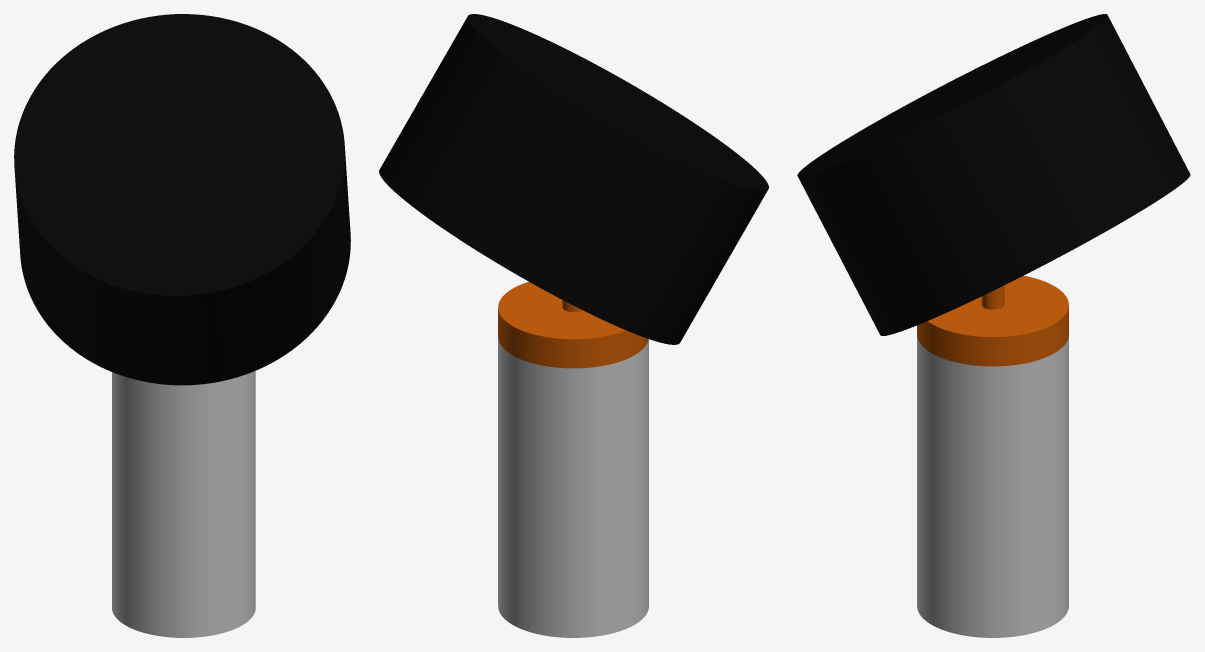
File: lamp15.obj
3 renders of one model, left to right at view 1: azimuth 30°, elevation 25°; view 2: azimuth 150°, elevation 25°; view 3: azimuth 270°, elevation 25°, orthographic. The views are drawn at different scales.
Visible parts, largest first — view 1: Cylinder.002, Cylinder; view 2: Cylinder.002, Cylinder, Cylinder.001; view 3: Cylinder.002, Cylinder, Cylinder.001.
Boxes of the visible parts, left/top/right/bottom form: Cylinder.002: left=14, top=14, right=350, bottom=385; Cylinder: left=112, top=371, right=255, bottom=637; Cylinder.002: left=379, top=14, right=768, bottom=344; Cylinder: left=498, top=337, right=648, bottom=637; Cylinder.001: left=498, top=282, right=648, bottom=368; Cylinder.002: left=797, top=14, right=1190, bottom=335; Cylinder: left=917, top=336, right=1068, bottom=637; Cylinder.001: left=917, top=275, right=1068, bottom=366.
Size of what is drawn, in the model's own units: 5.1 by 8.51 by 5.17.
